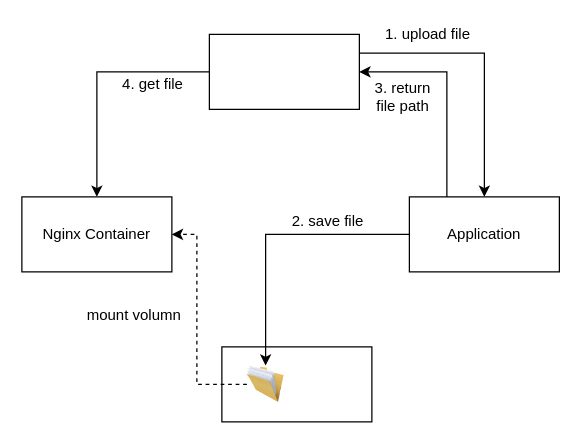
This 581x444 diagram has some shape labels left out. The shapes that lost their labels are listed below. From the top down, each one's box as (x1, y1, x2, y2) in pixels, then its label:
(208, 33, 359, 109): Client
(221, 346, 372, 422): Host
